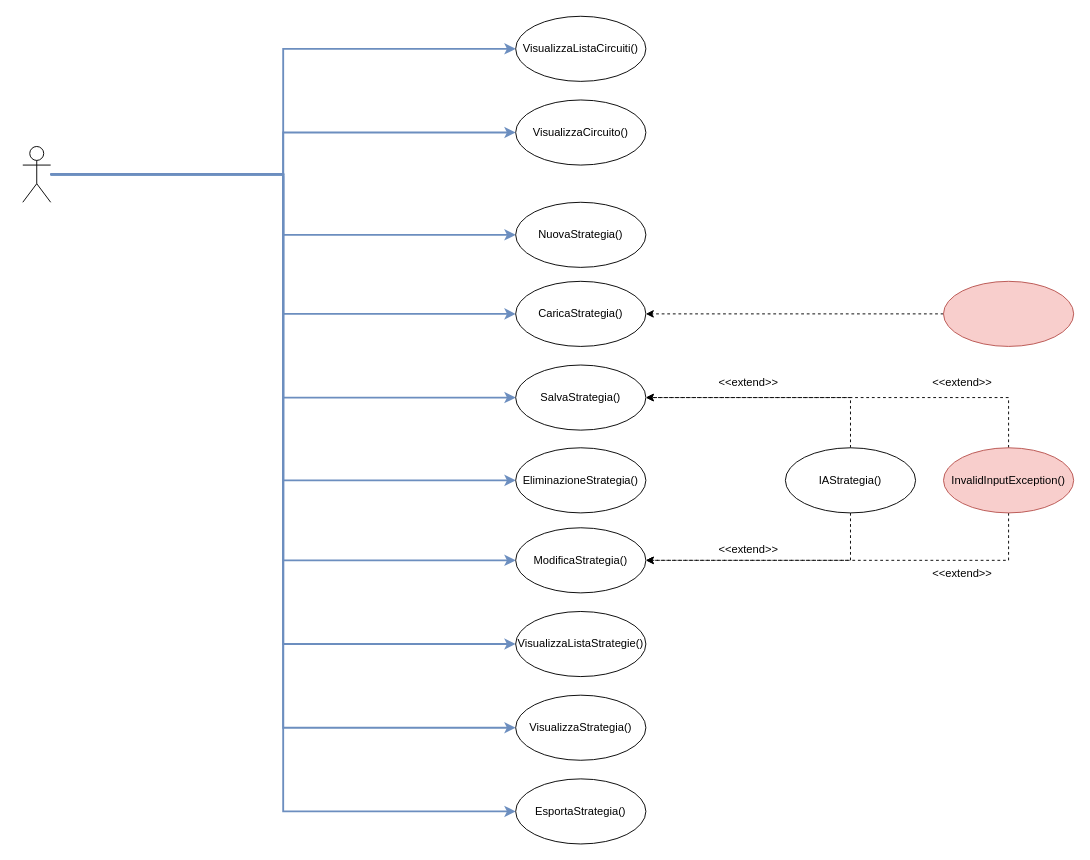
The diagram is 1090 pixels wide and 860 high, and some of its shapes have lost their labels. The centre of each missing label's shape, as x and y in pixels:
Stratega: (x=36, y=174)
UnsupportedExtension(): (x=1008, y=313)
